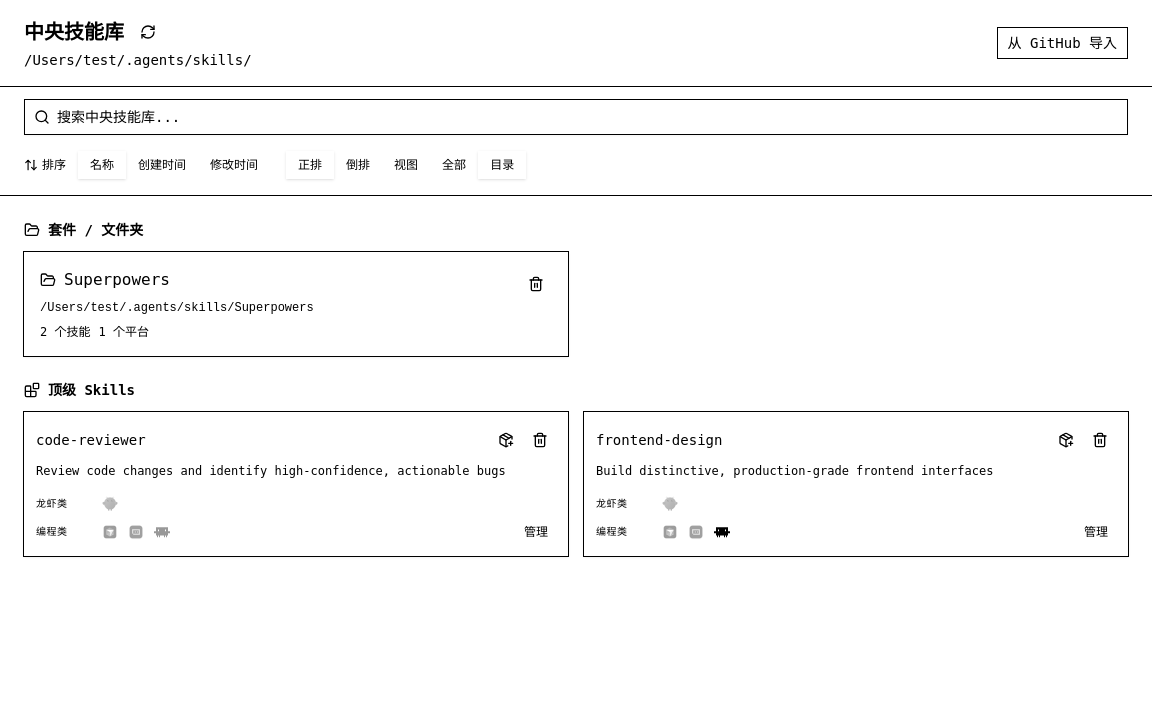
Test case: CentralSkillsView › keeps bundle delete icon from opening the detail drawer
Click the button named "删除套件 Superpowers" at point(536, 284), box [520,268,552,300]
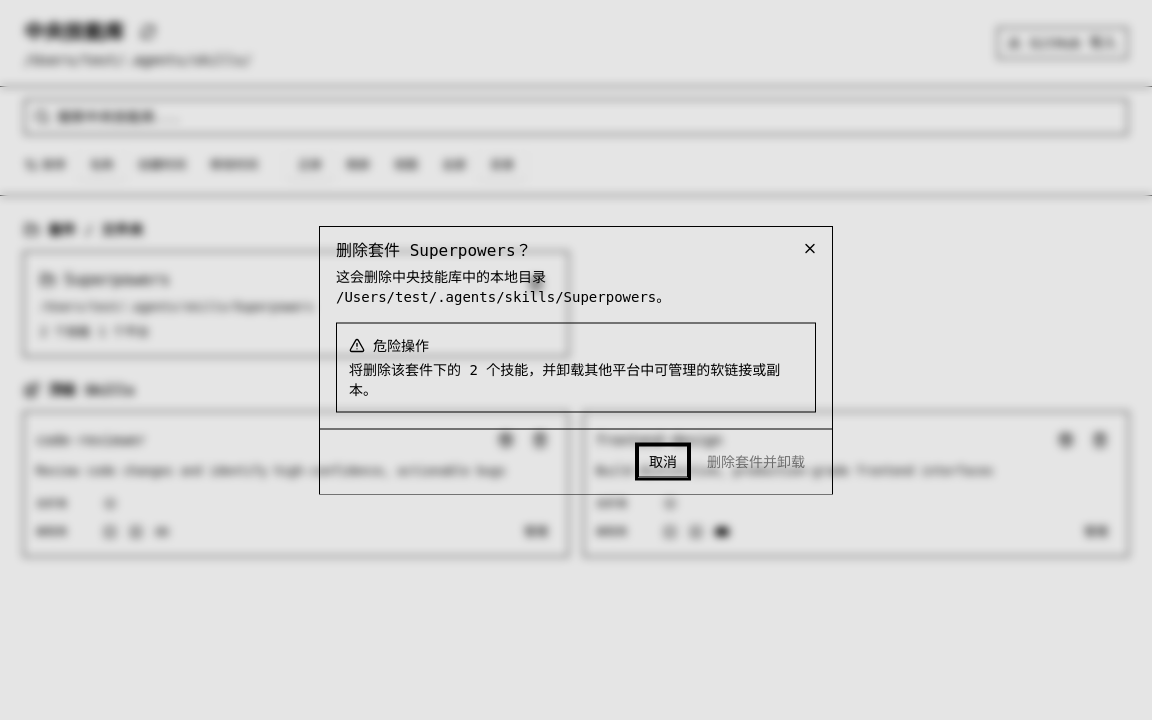
Check: the dialog "删除套件 Superpowers" is shown, box [320,226,832,494]
